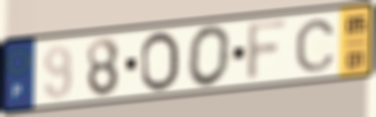8: (85, 36, 121, 98)
9: (41, 43, 77, 102)
C: (293, 18, 338, 74)
F: (243, 16, 293, 85)
O: (185, 23, 233, 89), (139, 30, 182, 95)
